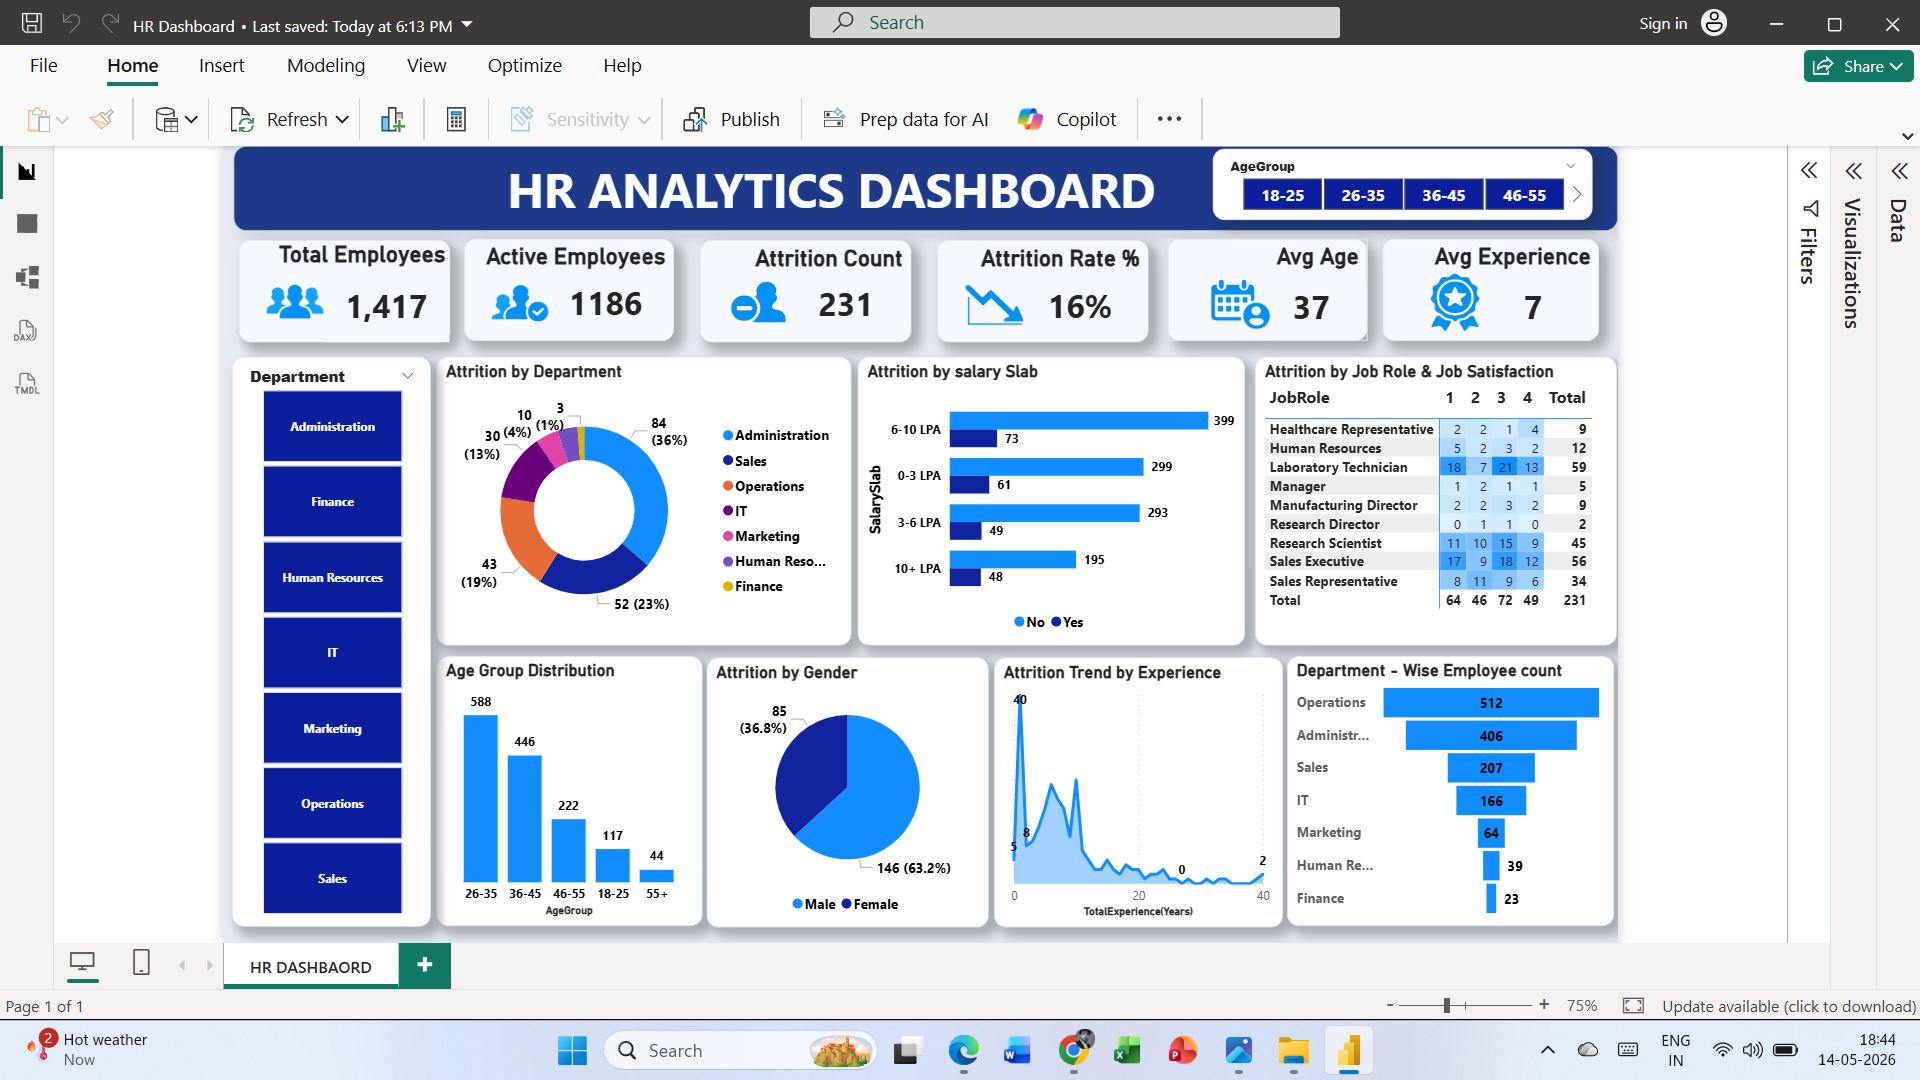

The dashboard page shown, as its layout file describes it:
{"tool":"powerbi","page":{"name":"HR DASHBAORD","canvas":[1400,800],"ordinal":0},"visuals":[{"type":"textbox","box":[10.2,0,1389.4,85.6],"z":0},{"type":"card","title":"Total Employees ","fields":{"Values":["CountNonNull(HR_Analytics-4.EmpID)"]},"box":[16,94.3,211.8,103],"z":1000},{"type":"card","title":"Attrition Count","fields":{"Values":["Sum(HR_Analytics-4.AttritionCount)"]},"box":[478.6,94.3,211.8,103],"z":2000},{"type":"card","title":"Active Employees ","fields":{"Values":["Sum(HR_Analytics-4.EmployeeCount)"]},"box":[242.2,92.8,210.3,103],"z":3000},{"type":"card","title":"Attrition Rate % ","fields":{"Values":["HR_Analytics-4.Attrition Rate &"]},"box":[716.5,94.3,211.8,103],"z":4000},{"type":"card","title":"Avg Experience ","fields":{"Values":["Avg(HR_Analytics-4.YearsatCompany)"]},"box":[1163.2,92.8,217.6,103],"z":5000},{"type":"card","title":"Avg Age","fields":{"Values":["Avg(HR_Analytics-4.Age)"]},"box":[948.5,92.8,200.1,103],"z":6000},{"type":"donutChart","title":"Attrition by Department","fields":{"Category":["HR_Analytics-4.Department"],"Y":["Sum(HR_Analytics-4.AttritionCount)"]},"box":[214.1,211.4,416.2,289.9],"z":7000},{"type":"clusteredBarChart","title":"Attrition by salary Slab","fields":{"Category":["HR_Analytics-4.SalarySlab"],"Y":["CountNonNull(HR_Analytics-4.EmpID)"],"Series":["HR_Analytics-4.Attrition"]},"box":[637,211.4,388.3,289.9],"z":8000},{"type":"pivotTable","title":"Attrition by Job Role & Job Satisfaction ","fields":{"Rows":["HR_Analytics-4.JobRole"],"Values":["Sum(HR_Analytics-4.AttritionCount)"],"Columns":["HR_Analytics-4.JobSatisfaction"]},"box":[1035.9,211.4,363,289.9],"z":9000},{"type":"columnChart","title":"Age Group Distribution","fields":{"Category":["HR_Analytics-4.AgeGroup"],"Y":["Sum(HR_Analytics-4.EmployeeCount)"]},"box":[214.1,512,267.3,271.3],"z":10000},{"type":"pieChart","title":"Attrition by Gender","fields":{"Category":["HR_Analytics-4.Gender"],"Y":["Sum(HR_Analytics-4.AttritionCount)"]},"box":[485.4,513.3,283.2,271.3],"z":11000},{"type":"areaChart","title":"Attrition Trend by Experience ","fields":{"Y":["Sum(HR_Analytics-4.AttritionCount)"],"Category":["HR_Analytics-4.TotalExperience(Years)"]},"box":[773.9,513.3,289.9,271.3],"z":12000},{"type":"funnel","title":"Department - Wise Employee count","fields":{"Category":["HR_Analytics-4.Department"],"Y":["CountNonNull(HR_Analytics-4.EmpID)"]},"box":[1067.8,512,328.5,271.3],"z":13000},{"type":"slicer","fields":{"Values":["HR_Analytics-4.Department"]},"box":[9.3,211.4,199.5,571.8],"z":14000},{"type":"slicer","fields":{"Values":["HR_Analytics-4.AgeGroup"]},"box":[993.5,2.9,381.4,72],"z":15000},{"type":"card","title":"Total Employees ","fields":{"Values":["CountNonNull(HR_Analytics-4.EmpID)"]},"box":[99.7,123.7,127.7,73.1],"z":16000},{"type":"card","title":"Active Employees ","fields":{"Values":["Sum(HR_Analytics-4.EmployeeCount)"]},"box":[316.6,127.3,134.2,60.2],"z":17000},{"type":"card","title":"Attrition Count","fields":{"Values":["Sum(HR_Analytics-4.AttritionCount)"]},"box":[566.2,125.6,117,67.1],"z":18000},{"type":"card","title":"Attrition Rate % ","fields":{"Values":["HR_Analytics-4.Attrition Rate &"]},"box":[798.5,127.3,123.9,65.4],"z":18001},{"type":"card","title":"Avg Age","fields":{"Values":["Avg(HR_Analytics-4.Age)"]},"box":[1035.9,135.9,111.9,51.6],"z":18002},{"type":"card","title":"Avg Experience ","fields":{"Values":["Avg(HR_Analytics-4.YearsatCompany)"]},"box":[1259.6,135.9,110.1,51.6],"z":18003},{"type":"image","box":[33.2,125,74.5,65.2],"z":18004},{"type":"image","box":[258,125,74.5,65.2],"z":18005},{"type":"image","box":[502.7,129,74.5,65.2],"z":18006},{"type":"image","box":[736.7,129,74.5,65.2],"z":18007},{"type":"image","box":[982.7,127.7,74.5,65.2],"z":18008},{"type":"image","box":[1198.2,126.3,74.5,65.2],"z":18009}]}

Visuals, with their boxes on the page's 1400x800 design canvas (x1, y1, x2, y2). These are canvas units, not pixel positions in the 1920x1080 screenshot, which may show the page scaled, cropped or inside an application window:
textbox: box=[10, 0, 1400, 86]
"Total Employees " card: box=[16, 94, 228, 197]
"Attrition Count" card: box=[479, 94, 690, 197]
"Active Employees " card: box=[242, 93, 452, 196]
"Attrition Rate % " card: box=[716, 94, 928, 197]
"Avg Experience " card: box=[1163, 93, 1381, 196]
"Avg Age" card: box=[948, 93, 1149, 196]
"Attrition by Department" donutChart: box=[214, 211, 630, 501]
"Attrition by salary Slab" clusteredBarChart: box=[637, 211, 1025, 501]
"Attrition by Job Role & Job Satisfaction " pivotTable: box=[1036, 211, 1399, 501]
"Age Group Distribution" columnChart: box=[214, 512, 481, 783]
"Attrition by Gender" pieChart: box=[485, 513, 769, 785]
"Attrition Trend by Experience " areaChart: box=[774, 513, 1064, 785]
"Department - Wise Employee count" funnel: box=[1068, 512, 1396, 783]
slicer - HR_Analytics-4.Department: box=[9, 211, 209, 783]
slicer - HR_Analytics-4.AgeGroup: box=[994, 3, 1375, 75]
"Total Employees " card: box=[100, 124, 227, 197]
"Active Employees " card: box=[317, 127, 451, 188]
"Attrition Count" card: box=[566, 126, 683, 193]
"Attrition Rate % " card: box=[798, 127, 922, 193]
"Avg Age" card: box=[1036, 136, 1148, 188]
"Avg Experience " card: box=[1260, 136, 1370, 188]
image: box=[33, 125, 108, 190]
image: box=[258, 125, 332, 190]
image: box=[503, 129, 577, 194]
image: box=[737, 129, 811, 194]
image: box=[983, 128, 1057, 193]
image: box=[1198, 126, 1273, 192]
